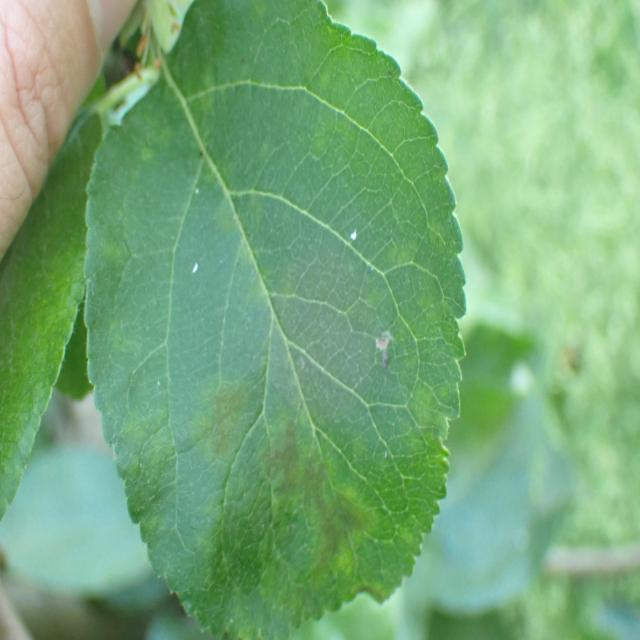scab: (197, 289, 379, 618)
